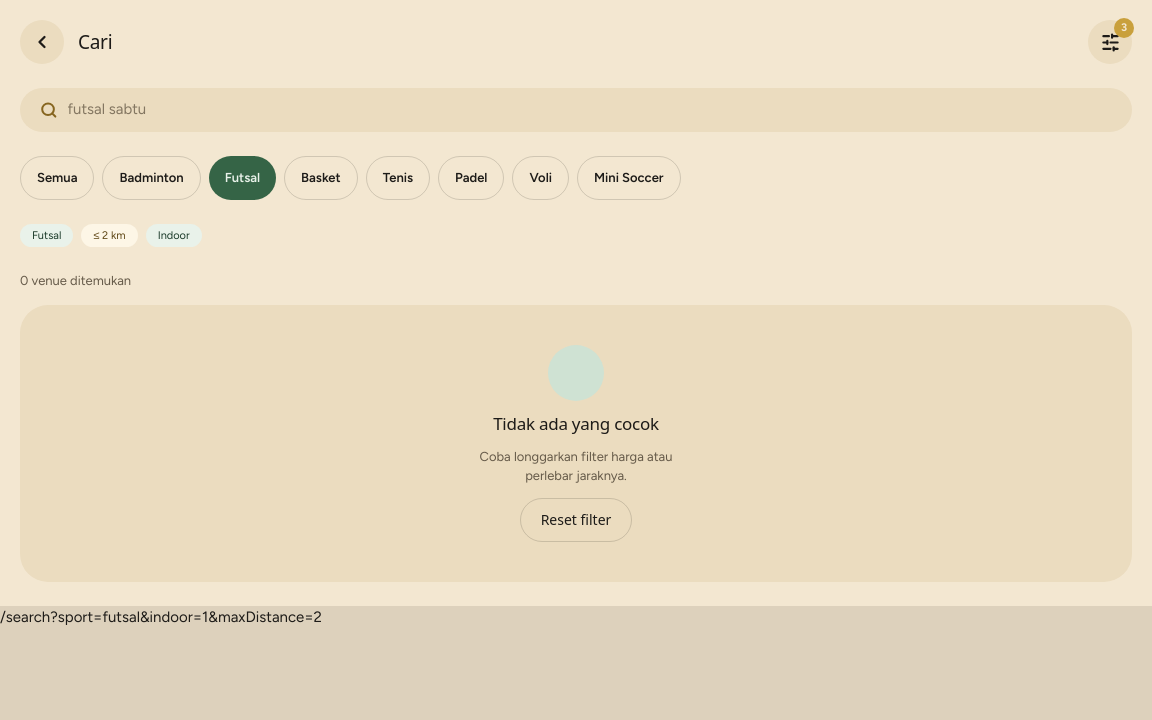
Test: SearchScreen — filter tersinkron dengan URL › mengembalikan semua filter ke bawaan lewat tombol Reset
Click the button named "Filter".
click(1110, 42)  # box [1088, 20, 1132, 64]
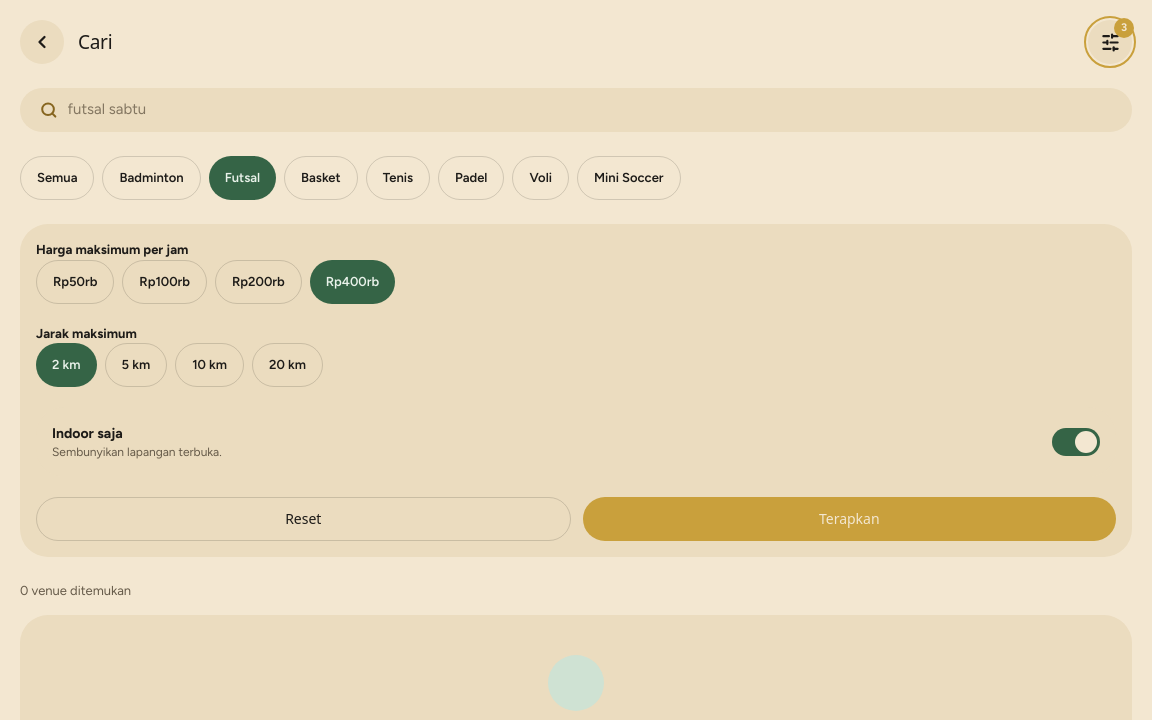
Click the button "Reset".
click(303, 519)  # box [36, 497, 570, 541]
(page scrolled)
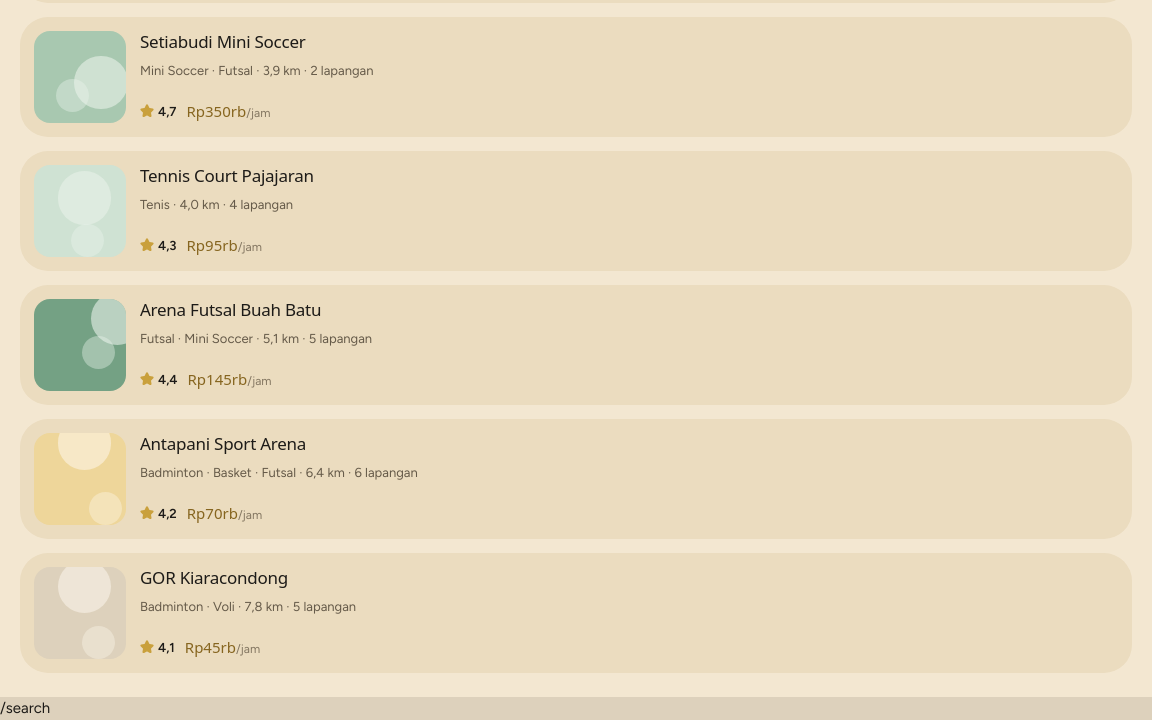
Expected: the text with test id "location" reads "/search", [0, 699, 50, 717]
